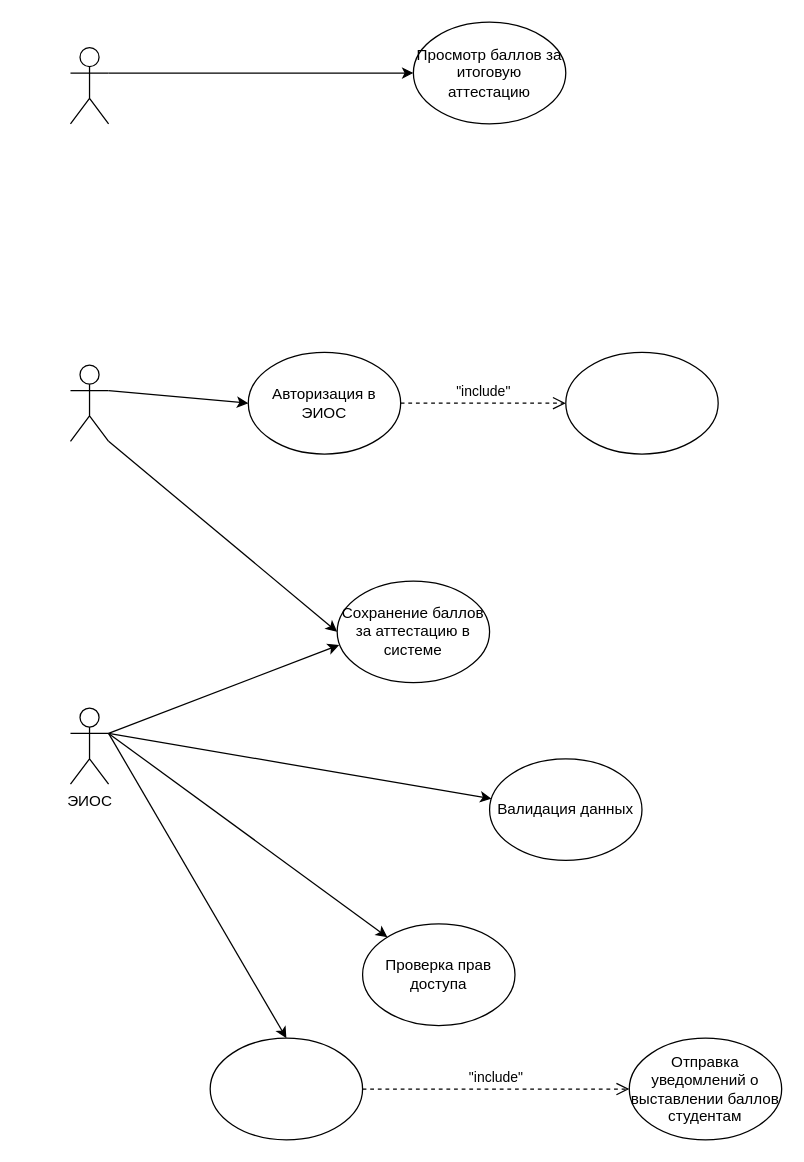
Some shapes in this 804 by 1162 pixel diagram are drawn without their labels. Here are the shapes that lost their labels. From the top down, the centre of each, then its label:
(x=89, y=85): Студент группы КС
(x=89, y=402): Преподаватель
(x=641, y=402): Проставление баллов за итоговую аттестацию
(x=286, y=1088): Появление баллов в системе
